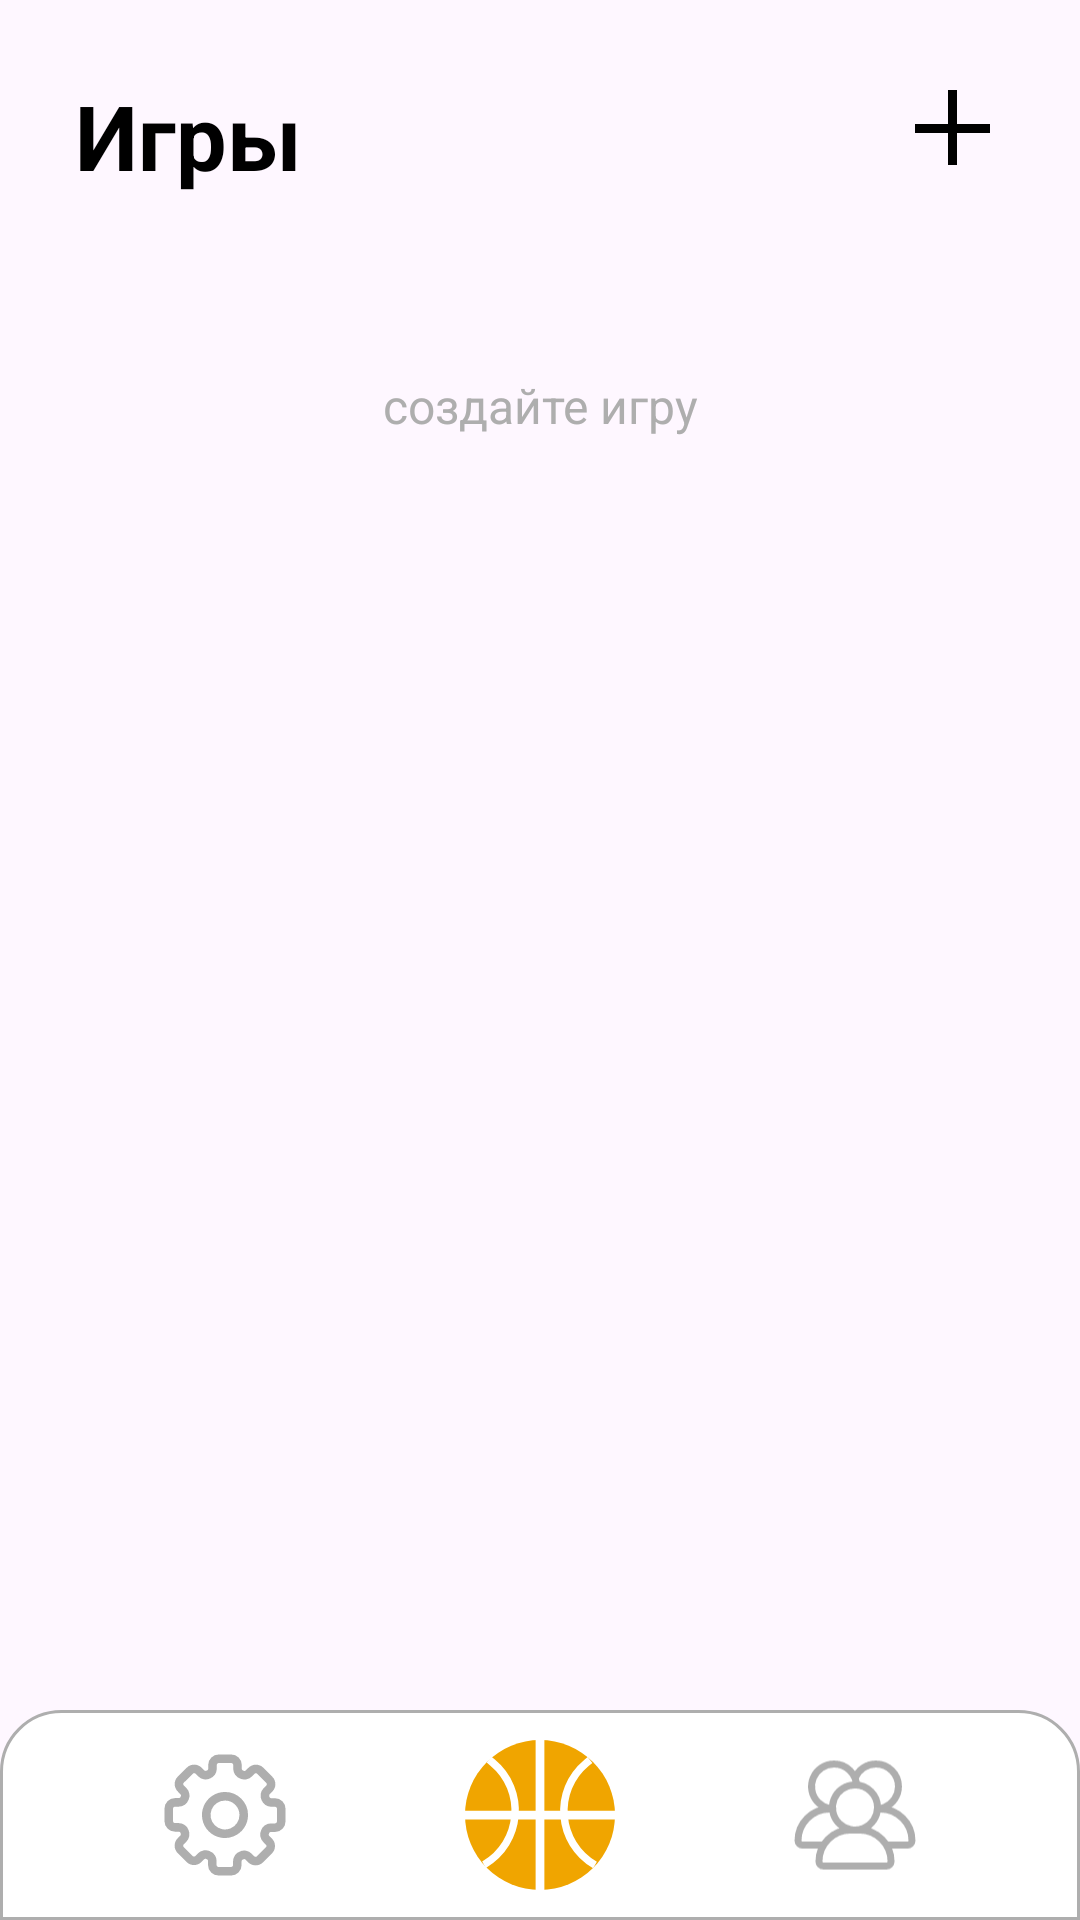

Icon bounding boxes for this 1080w x 1920h phone screenshot, format [x1=x1, y1=y1, x2=x2, y2=y2]:
plus: [x1=915, y1=90, x2=990, y2=165]
settings: [x1=164, y1=1754, x2=286, y2=1876]
teams: [x1=794, y1=1760, x2=916, y2=1870]
